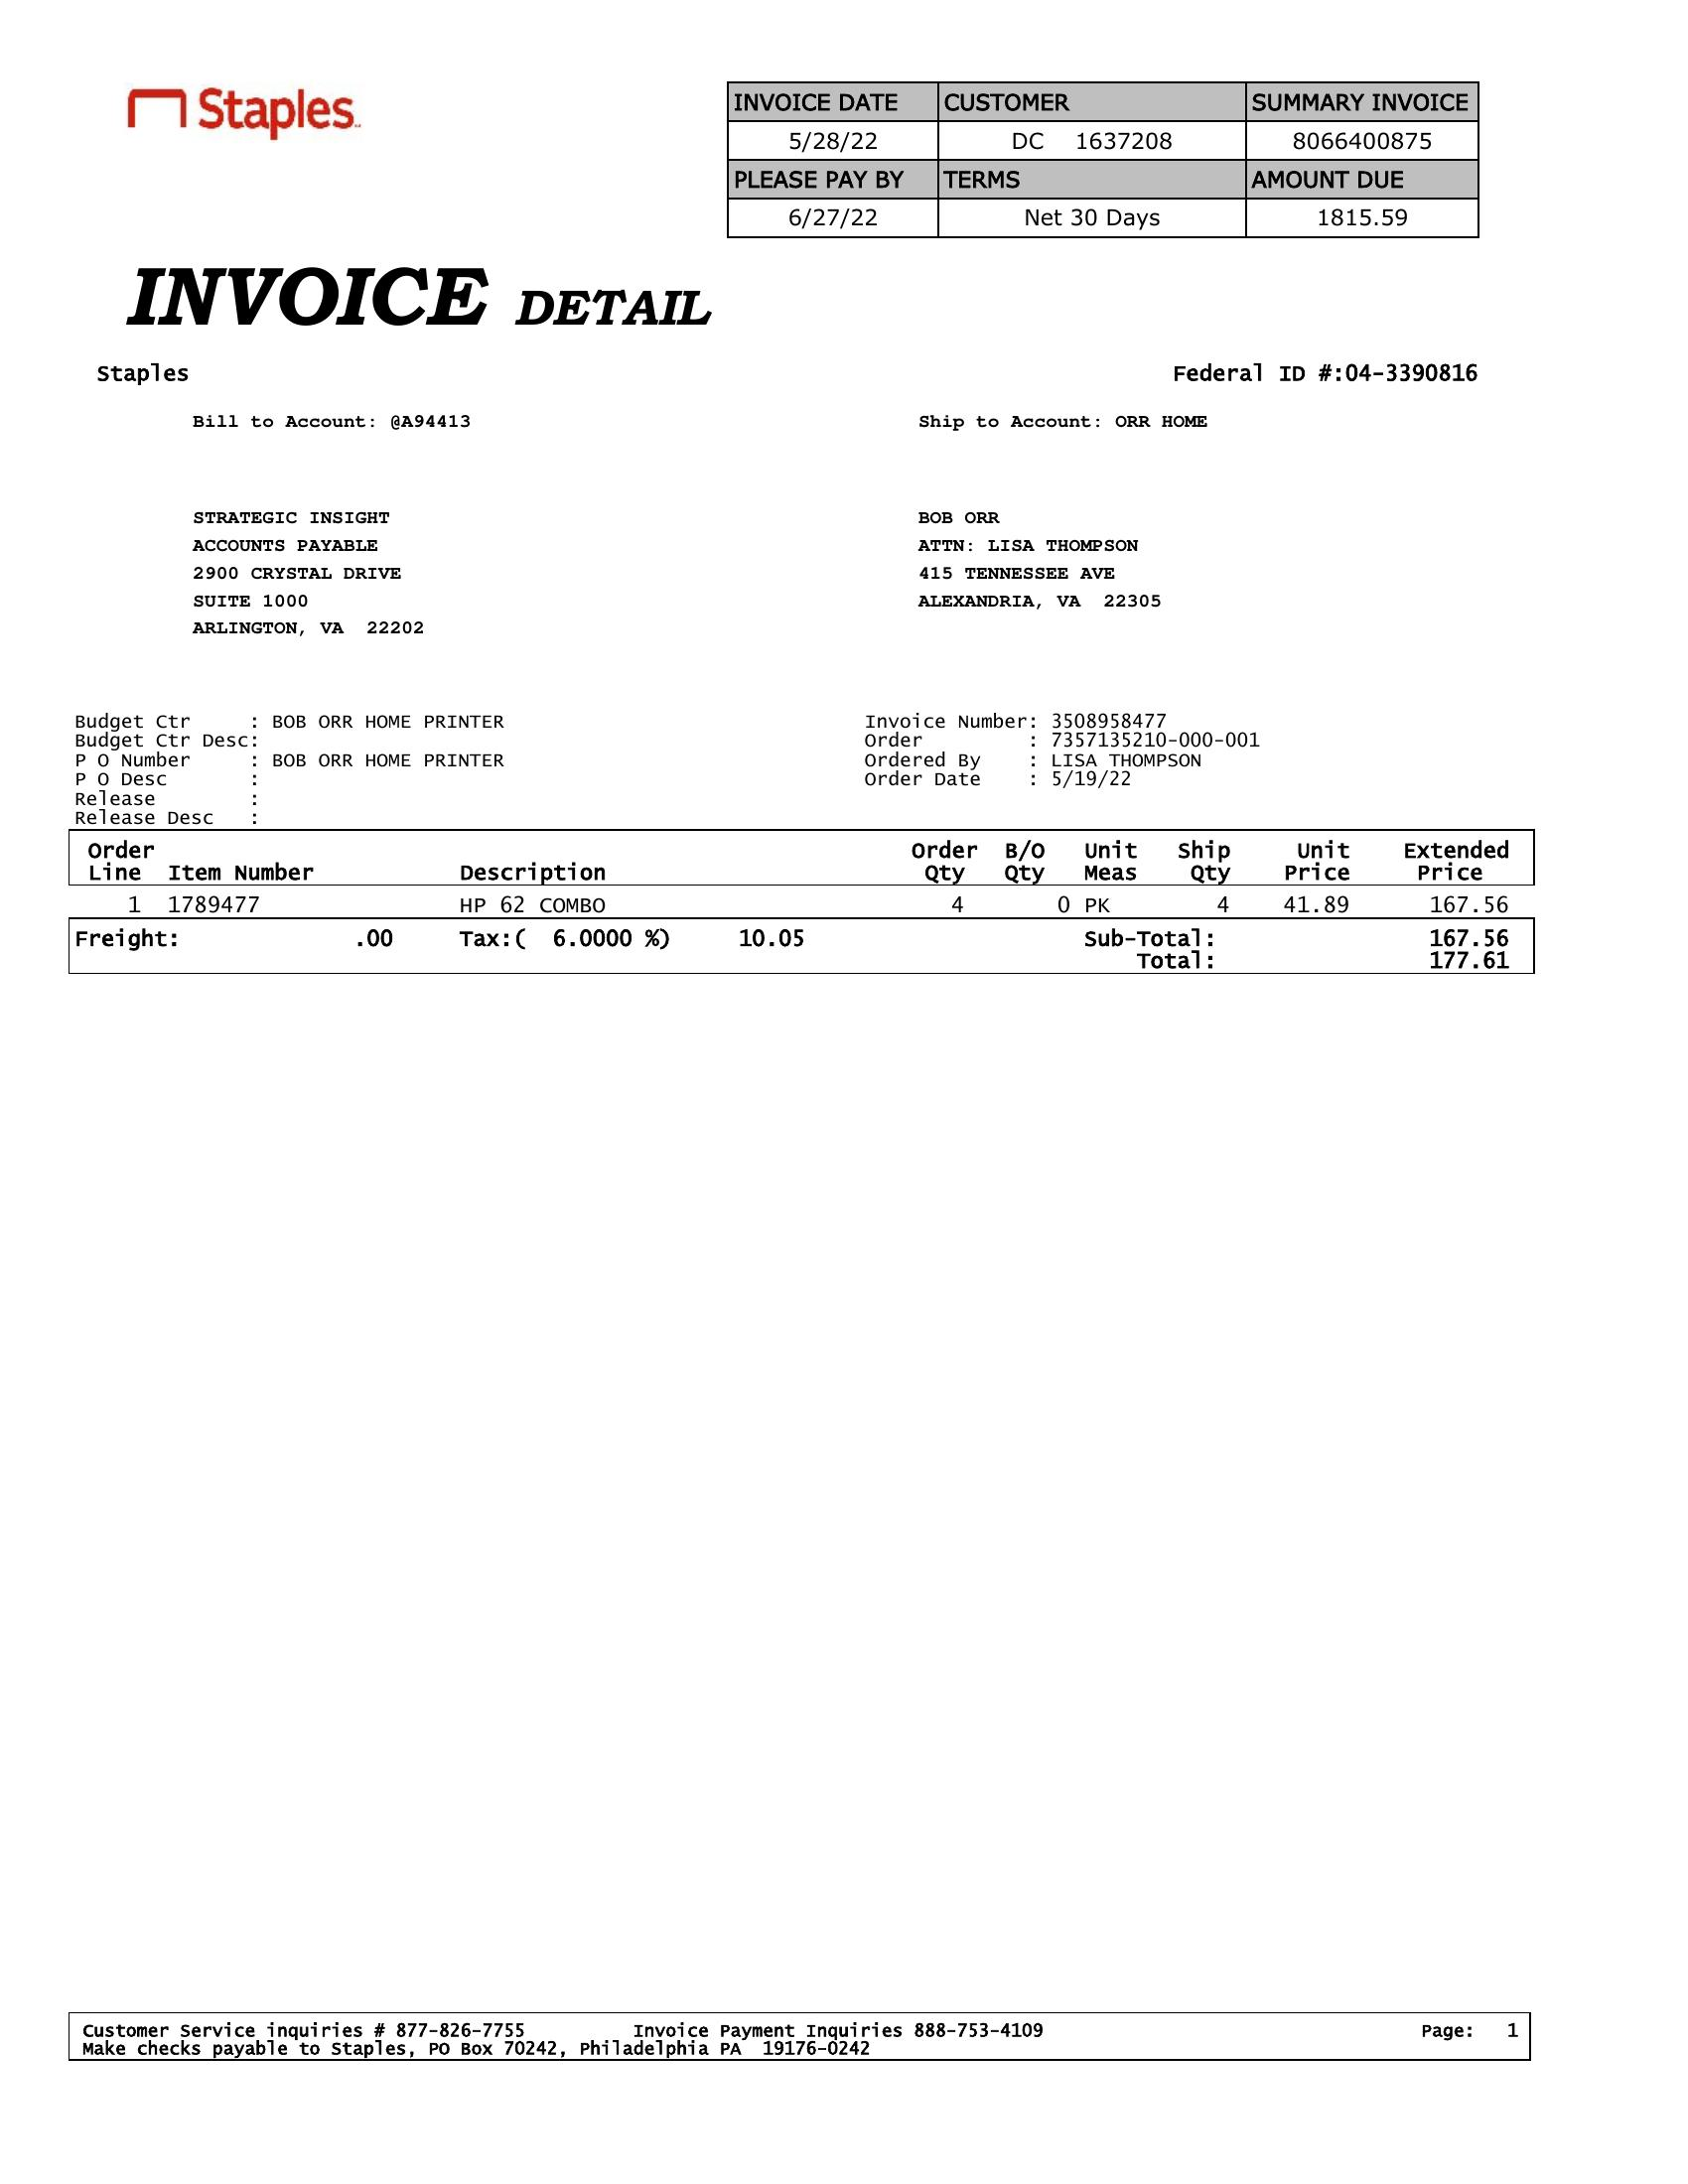table: (720, 69, 1497, 246), (74, 831, 1539, 924)
